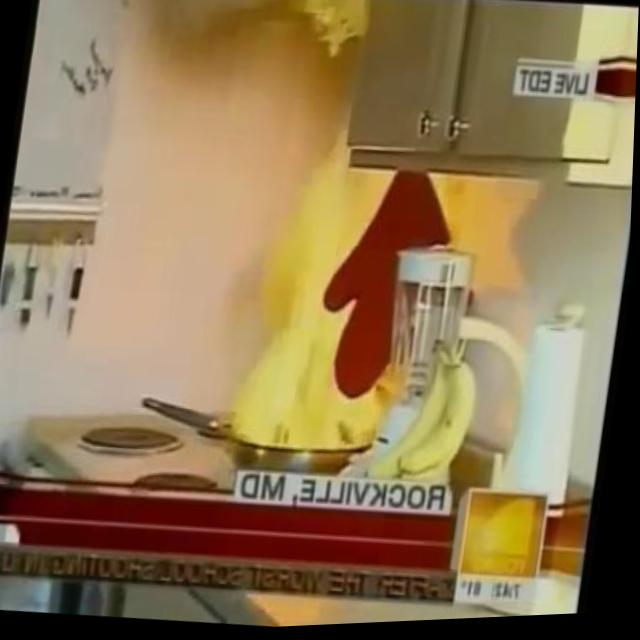fire: (227, 109, 417, 460), (267, 0, 368, 74)
